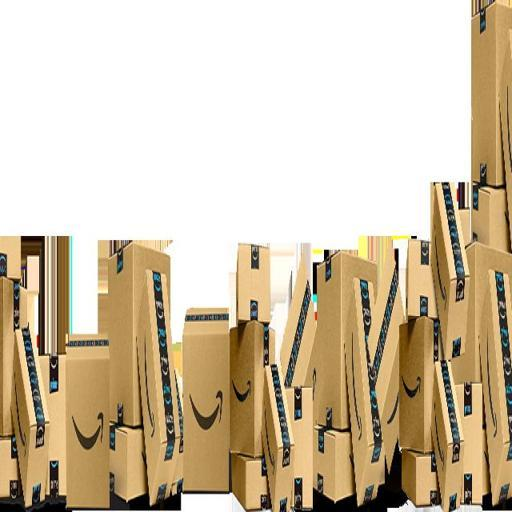Amazon: (112, 250, 174, 426), (136, 270, 182, 497), (315, 258, 372, 422), (181, 308, 229, 497), (343, 282, 383, 500), (479, 270, 512, 508), (66, 332, 109, 510), (431, 185, 471, 360), (473, 7, 512, 182), (11, 325, 49, 503), (365, 241, 404, 391), (233, 324, 275, 458), (399, 317, 441, 447), (0, 275, 32, 434), (278, 270, 321, 384), (262, 367, 296, 506), (432, 365, 462, 510), (454, 385, 487, 506), (286, 387, 314, 506), (241, 240, 277, 327), (402, 238, 443, 313), (473, 185, 512, 255), (109, 426, 144, 500), (404, 450, 445, 512), (230, 452, 268, 512), (1, 438, 31, 505)
